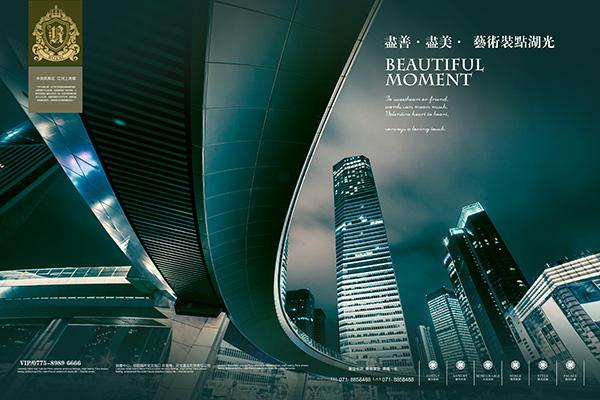buildings: (317, 133, 417, 373), (432, 206, 535, 378), (516, 250, 594, 390)
